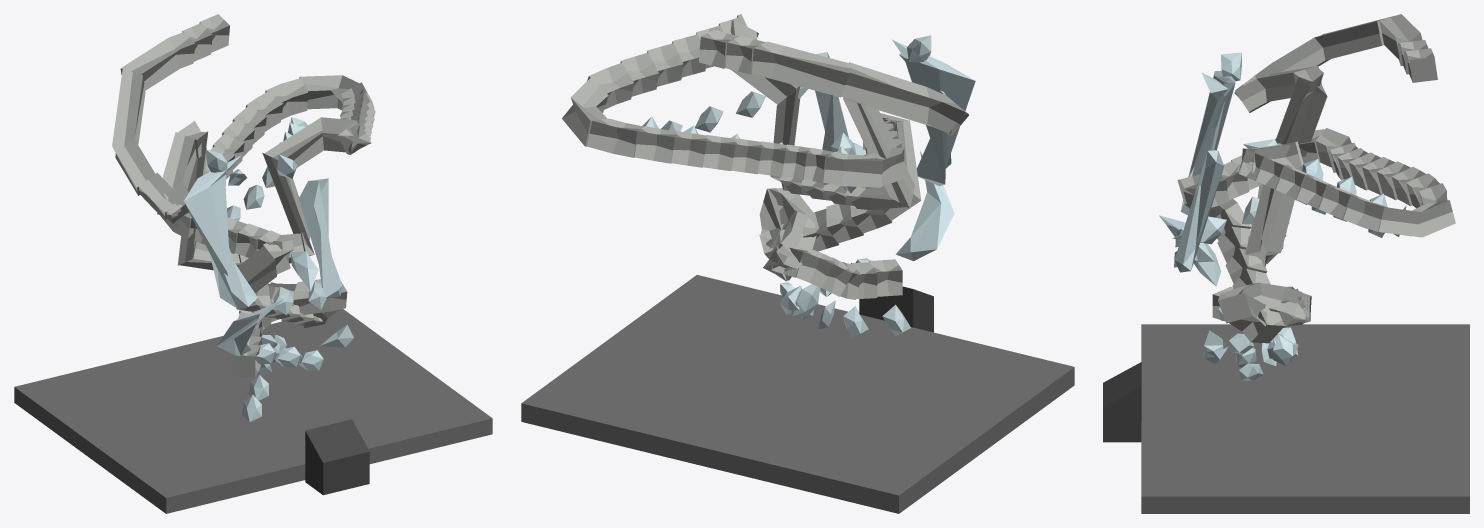
File: Sculture.glb
3 views of the same model, side by side, from view 1: azimuth 30°, elevation 25°; view 2: azimuth 150°, elevation 25°; view 3: azimuth 270°, elevation 25° (orthographic). The views are drawn at different scales.
Parts seen in each view (by area): view 1: Cube, Cube.001, Icosphere, Poedium; view 2: Cube, Cube.001, Icosphere, Poedium; view 3: Cube, Cube.001, Icosphere, Poedium.
Boxes of the visible parts, box(x1,y1,x2,y2) form: Cube: box(14, 309, 492, 513); Cube.001: box(112, 14, 375, 377); Icosphere: box(184, 117, 353, 421); Poedium: box(305, 419, 369, 495); Cube: box(521, 275, 1074, 513); Cube.001: box(562, 14, 968, 299); Icosphere: box(642, 35, 975, 337); Poedium: box(859, 286, 933, 332); Cube: box(1141, 324, 1469, 513); Cube.001: box(1177, 14, 1455, 343); Icosphere: box(1159, 52, 1406, 381); Poedium: box(1103, 362, 1141, 442).
Size of the model in its own units: 6.35 by 6.64 by 5.71.
